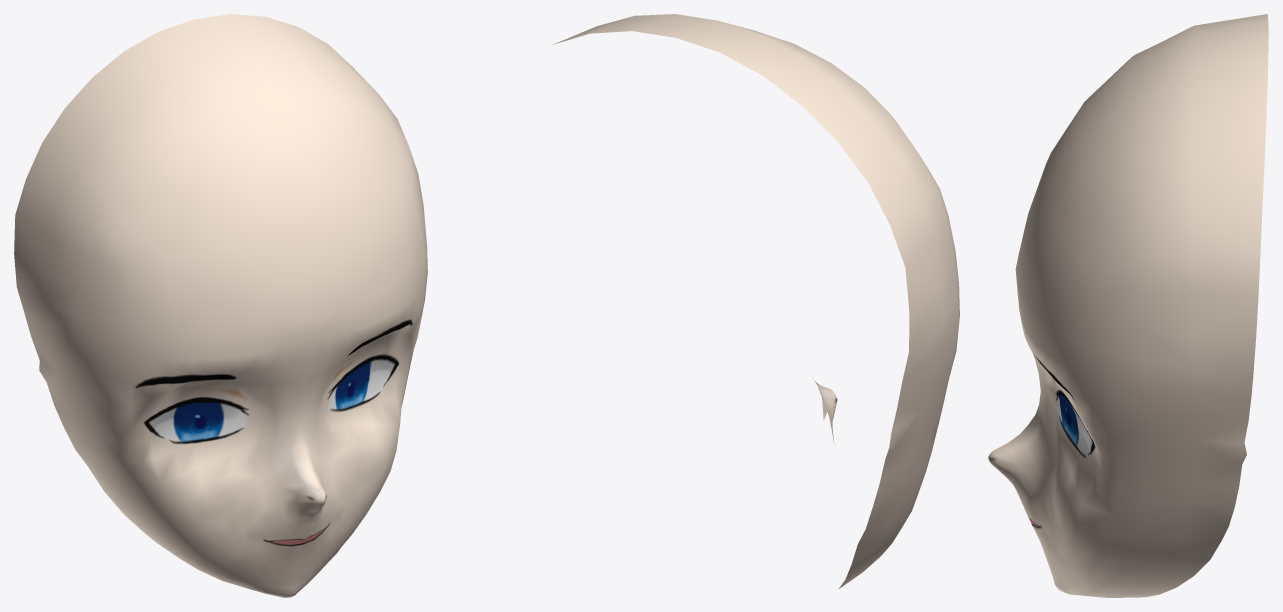
3 views of the same model, side by side, from view 1: azimuth 30°, elevation 25°; view 2: azimuth 150°, elevation 25°; view 3: azimuth 270°, elevation 25° (orthographic). The views are drawn at different scales.
Visible parts, largest first — view 1: Face; view 2: Face; view 3: Face.
Boxes of the visible parts, <box> form: Face: <box>14,14,427,597</box>; Face: <box>553,14,959,588</box>; Face: <box>988,14,1268,597</box>.
Bounding box in the file's own units: 0.15 × 0.1963 × 0.0898.
Materials: 1 (1 with a texture image).
